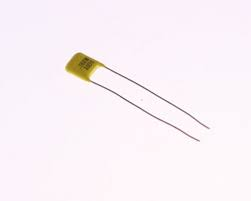ceramic capacitor: (44, 32, 133, 101)
